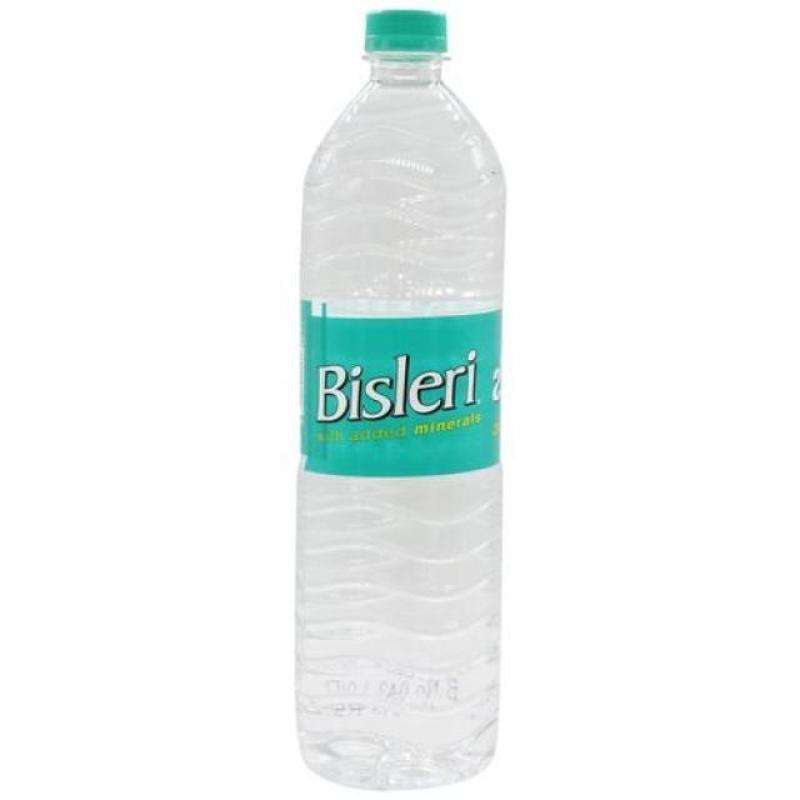botella: (298, 12, 507, 788)
